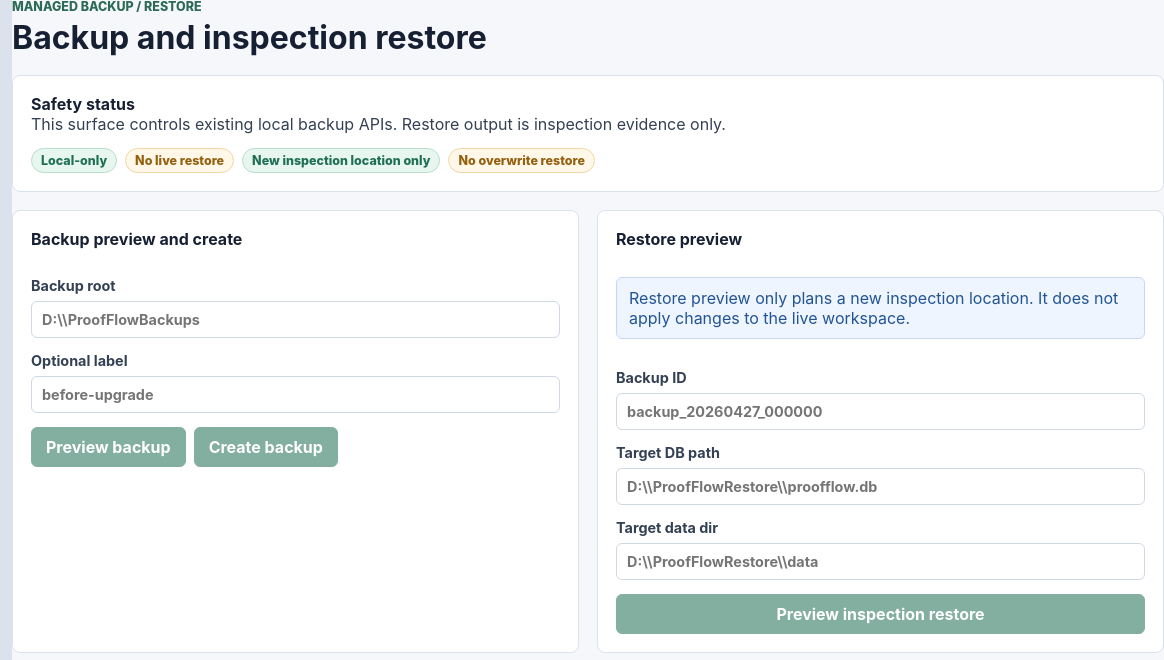
Test: ManagedBackupRestore › previews inspection restore and displays plan, writes, risks, and warnings
Type "backup-new" into the field labelled "Backup ID" at (880, 411), box x1=616 y1=393 x2=1145 y2=430
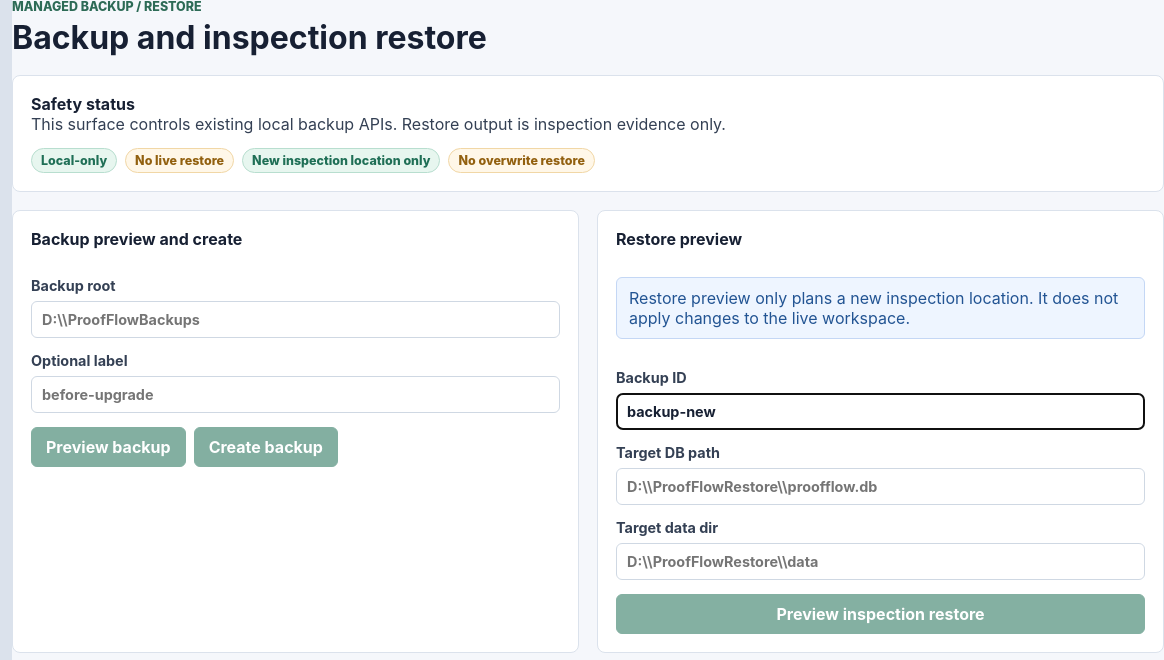
Type "D:/restore/proofflow.db" into the field labelled "Target DB path" at (880, 486), box x1=616 y1=468 x2=1145 y2=505
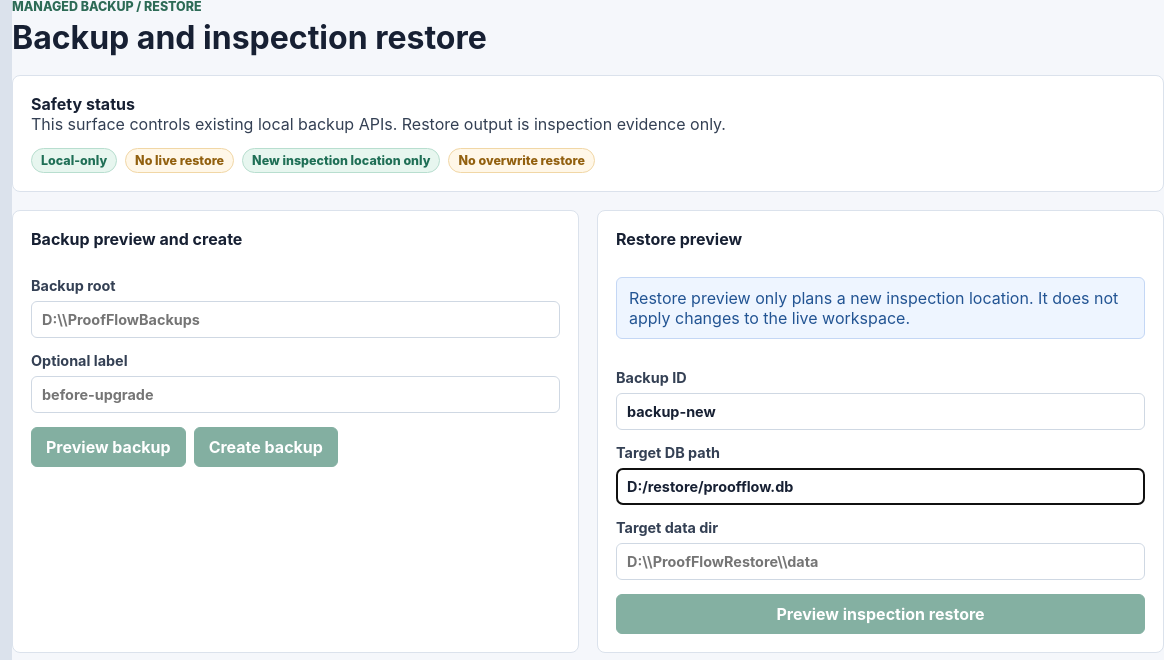
Type "D:/restore/data" into the field labelled "Target data dir" at (880, 561), box x1=616 y1=543 x2=1145 y2=580
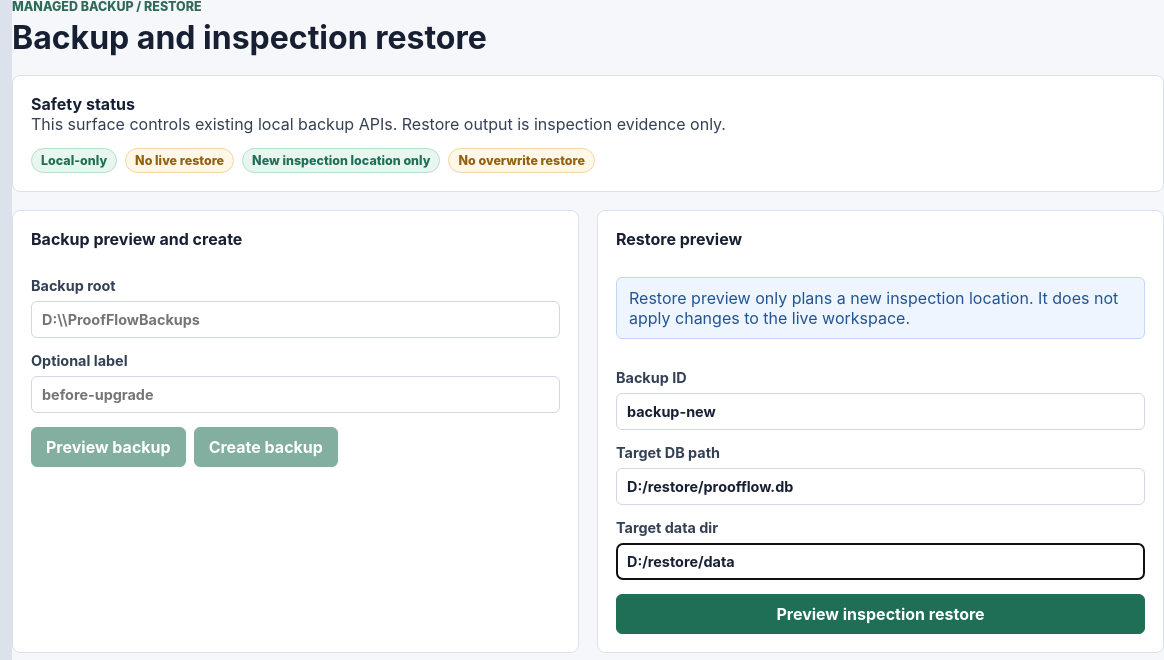
Click the button "Preview inspection restore" at (880, 614), box x1=616 y1=594 x2=1145 y2=634
(page scrolled)
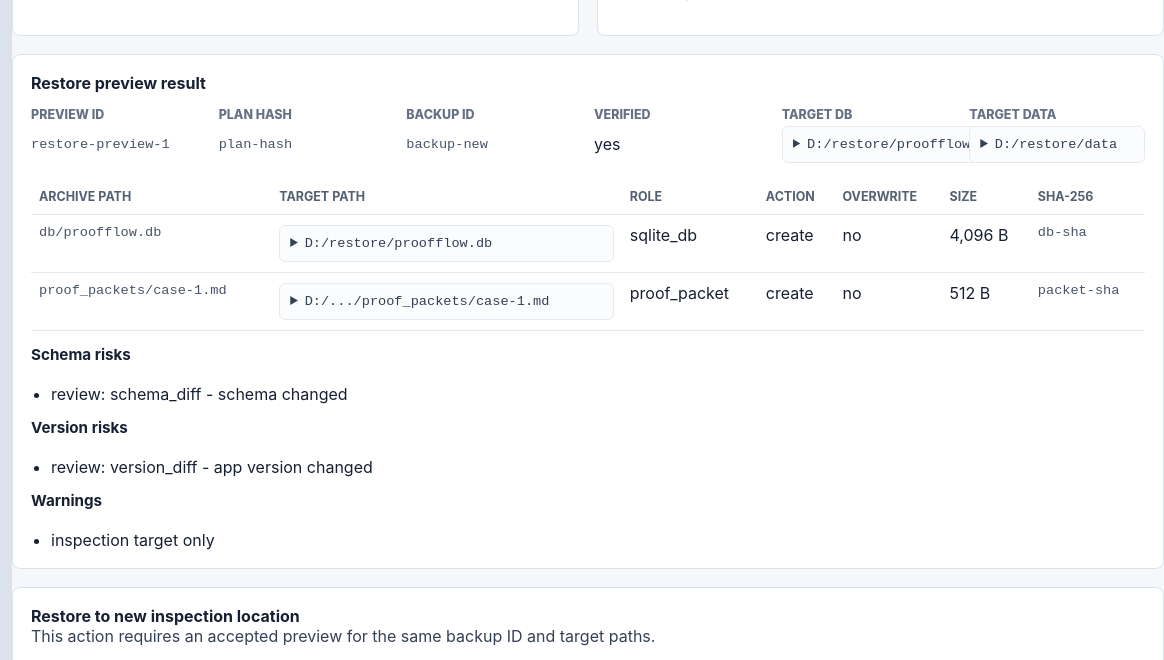
expect the text "restore-preview-1" is shown: met, box x1=31 y1=137 x2=170 y2=152
expect the text "plan-hash" is shown: met, box x1=219 y1=137 x2=292 y2=152
expect the text "db/proofflow.db" is shown: met, box x1=31 y1=214 x2=271 y2=272
